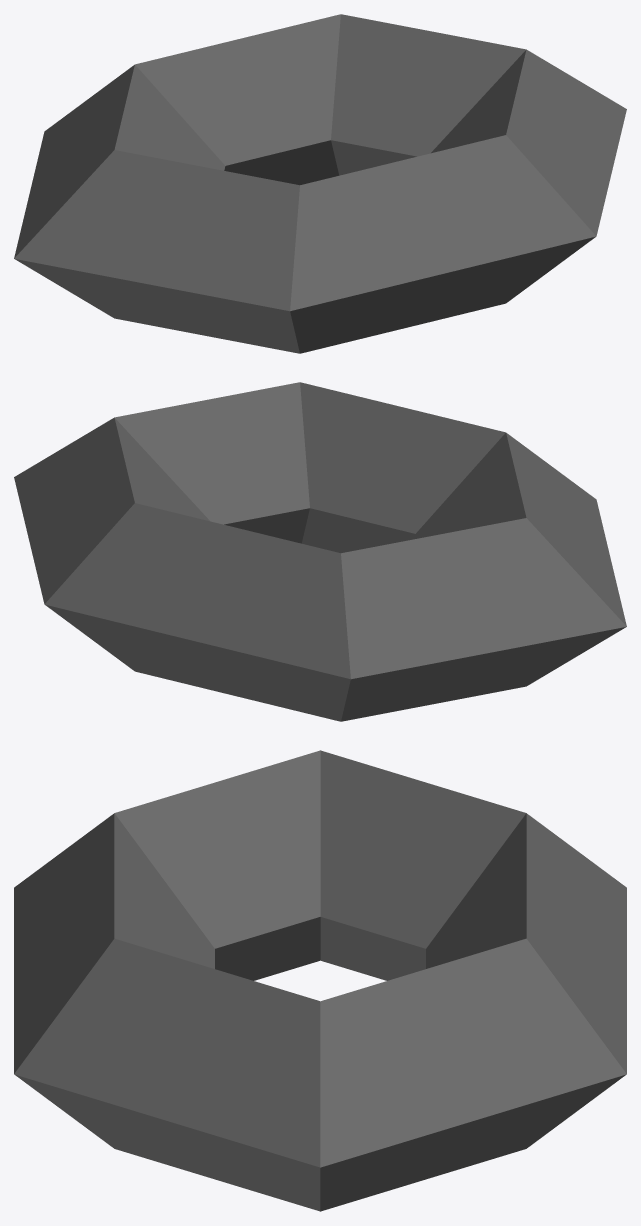
Rendered from ChainLink.fbx.
The picture shows the model from 3 angles, top to bottom: view 1: azimuth 30°, elevation 25°; view 2: azimuth 150°, elevation 25°; view 3: azimuth 270°, elevation 25°; orthographic projection. The views are drawn at different scales.
Parts seen in each view (by area): view 1: ChainLink; view 2: ChainLink; view 3: ChainLink.
Part boxes in pixels (x1,y1,x2,y2): ChainLink: [14, 14, 626, 353]; ChainLink: [14, 382, 626, 721]; ChainLink: [14, 750, 626, 1211].
Bounding box in the file's own units: 223 × 58.57 × 155.
